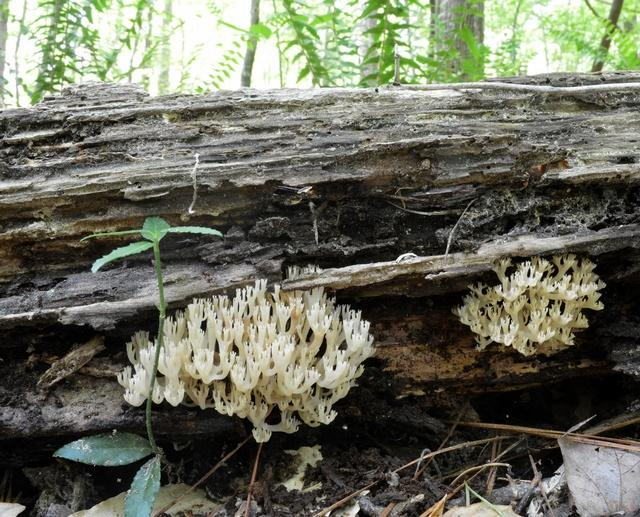Edible Mushroom: (115, 276, 377, 443), (451, 251, 605, 357)
